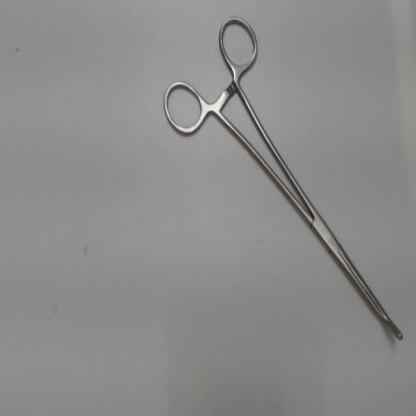Lahey Forceps: (158, 6, 409, 351)
